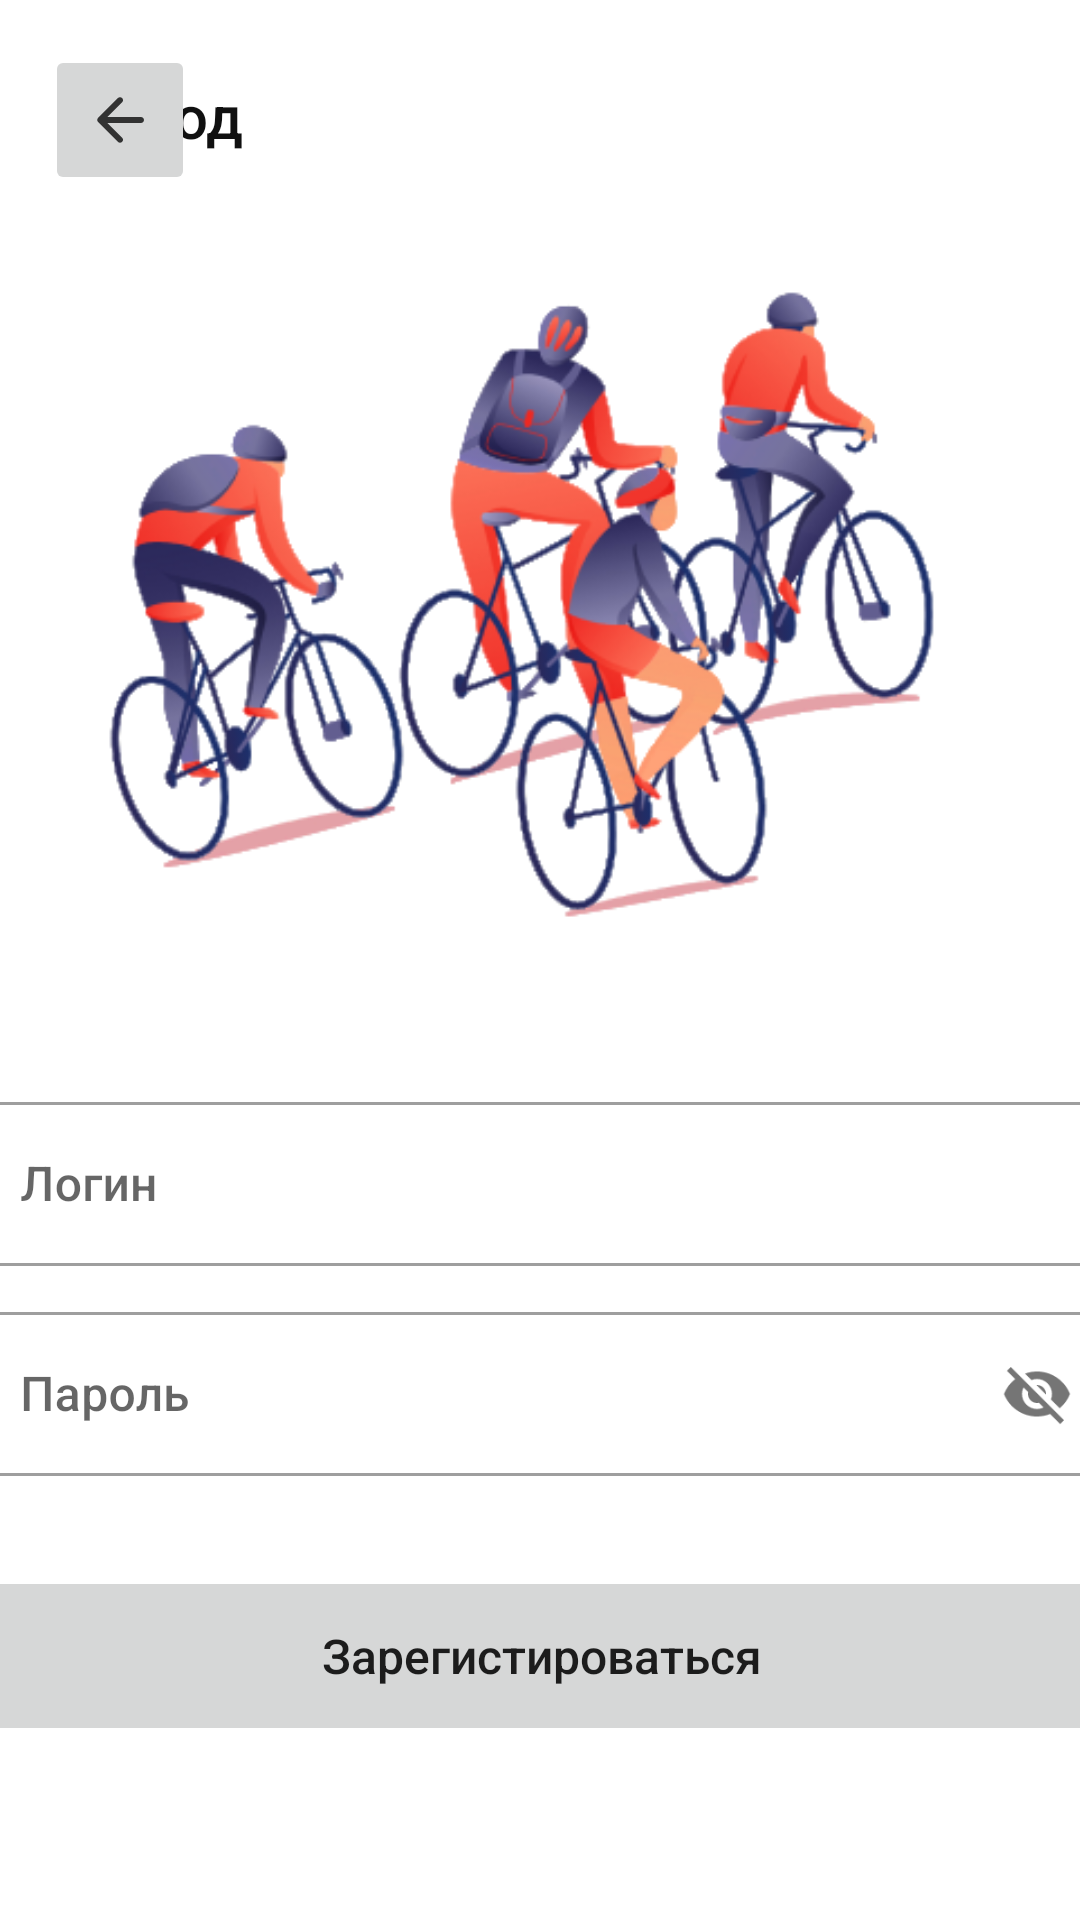

Icons on this 1080 x 1920 Android screen, each with its box as (x1, y1, x2, y2):
arrow back: (57, 63, 195, 177)
